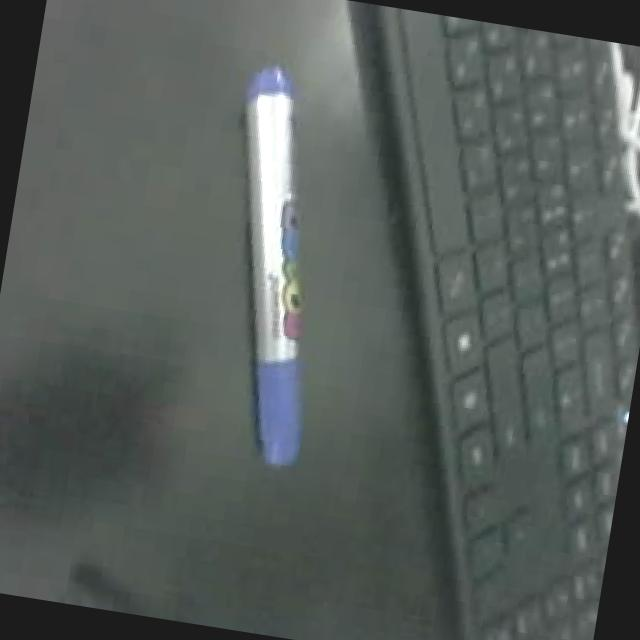board-marker: (243, 65, 302, 464)
